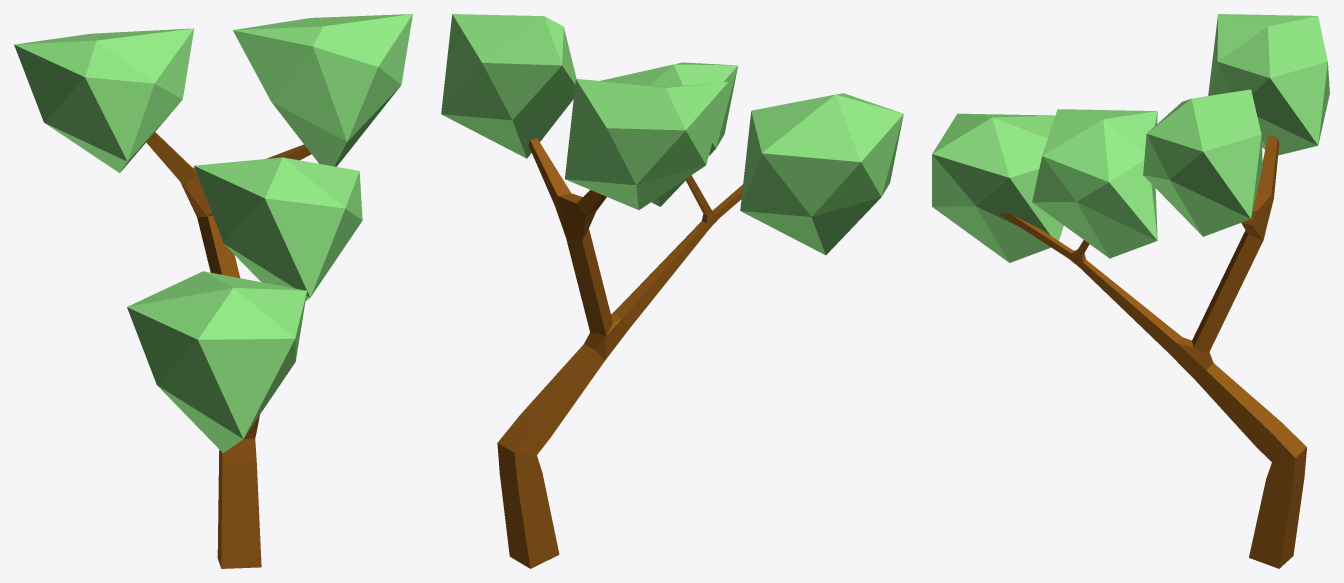
File: tree.glb
The picture shows the model from 3 angles, left to right: view 1: azimuth 30°, elevation 25°; view 2: azimuth 150°, elevation 25°; view 3: azimuth 270°, elevation 25°; orthographic projection. The views are drawn at different scales.
Parts seen in each view (by area): view 1: Icosphere, Icosphere.001, Icosphere.002, Icosphere.003, Cube; view 2: Icosphere, Cube, Icosphere.002, Icosphere.001, Icosphere.003; view 3: Cube, Icosphere.003, Icosphere, Icosphere.001, Icosphere.002.
Part boxes in pixels (left/top/right/bottom): Icosphere: left=127, top=271, right=306, bottom=453; Icosphere.001: left=233, top=14, right=412, bottom=166; Icosphere.002: left=14, top=28, right=194, bottom=172; Icosphere.003: left=194, top=157, right=362, bottom=300; Cube: left=146, top=132, right=311, bottom=568; Icosphere: left=740, top=93, right=903, bottom=255; Cube: left=497, top=138, right=742, bottom=568; Icosphere.002: left=565, top=79, right=728, bottom=209; Icosphere.001: left=441, top=14, right=576, bottom=158; Icosphere.003: left=600, top=62, right=738, bottom=206; Cube: left=999, top=134, right=1306, bottom=568; Icosphere.003: left=1032, top=109, right=1157, bottom=258; Icosphere: left=932, top=113, right=1063, bottom=262; Icosphere.001: left=1143, top=89, right=1262, bottom=236; Icosphere.002: left=1208, top=14, right=1329, bottom=155.
Bounding box in the file's own units: 2.3 × 3.33 × 2.52.
